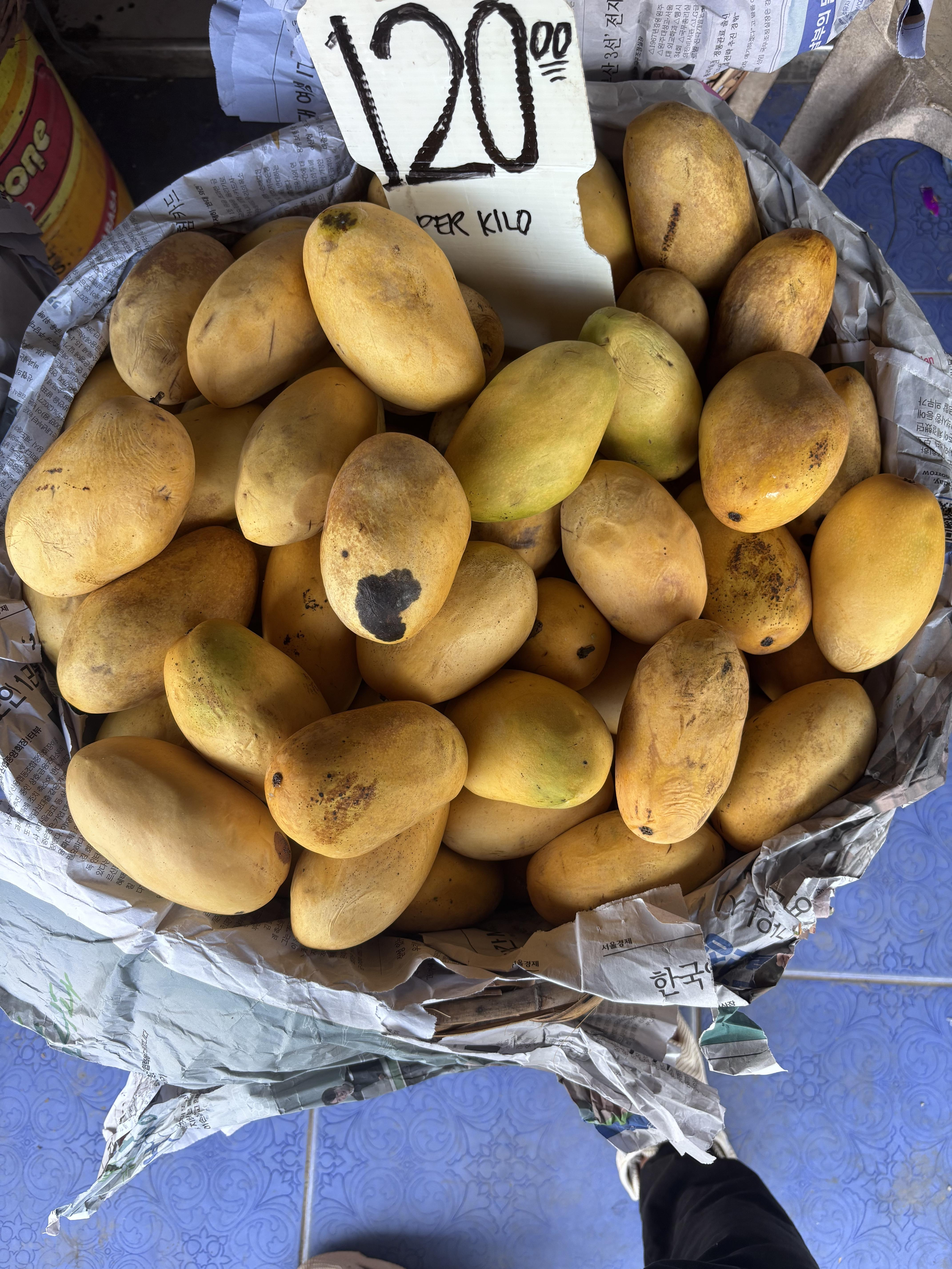mango: (66, 737, 291, 915), (6, 395, 194, 598), (303, 203, 484, 411), (264, 702, 468, 858), (321, 433, 470, 644), (616, 619, 748, 844), (700, 351, 849, 534), (810, 474, 945, 673)
occluded: (58, 527, 257, 713), (445, 341, 619, 522), (164, 619, 330, 800), (357, 542, 537, 705), (712, 679, 876, 850), (561, 460, 707, 645), (623, 102, 760, 299), (234, 367, 383, 547), (187, 229, 328, 407), (678, 482, 812, 658), (290, 803, 449, 949), (446, 670, 613, 809), (527, 810, 724, 924), (110, 232, 233, 409), (704, 228, 837, 389), (580, 308, 702, 481), (787, 366, 881, 558), (262, 531, 361, 712), (443, 774, 614, 861), (176, 403, 263, 537), (510, 578, 611, 690), (390, 846, 504, 933), (618, 268, 709, 370), (578, 150, 638, 296), (751, 623, 864, 700), (580, 631, 649, 735), (470, 504, 560, 577), (98, 692, 192, 749), (23, 583, 86, 665), (64, 359, 136, 429), (459, 283, 504, 379), (232, 216, 312, 259), (428, 404, 469, 454)
